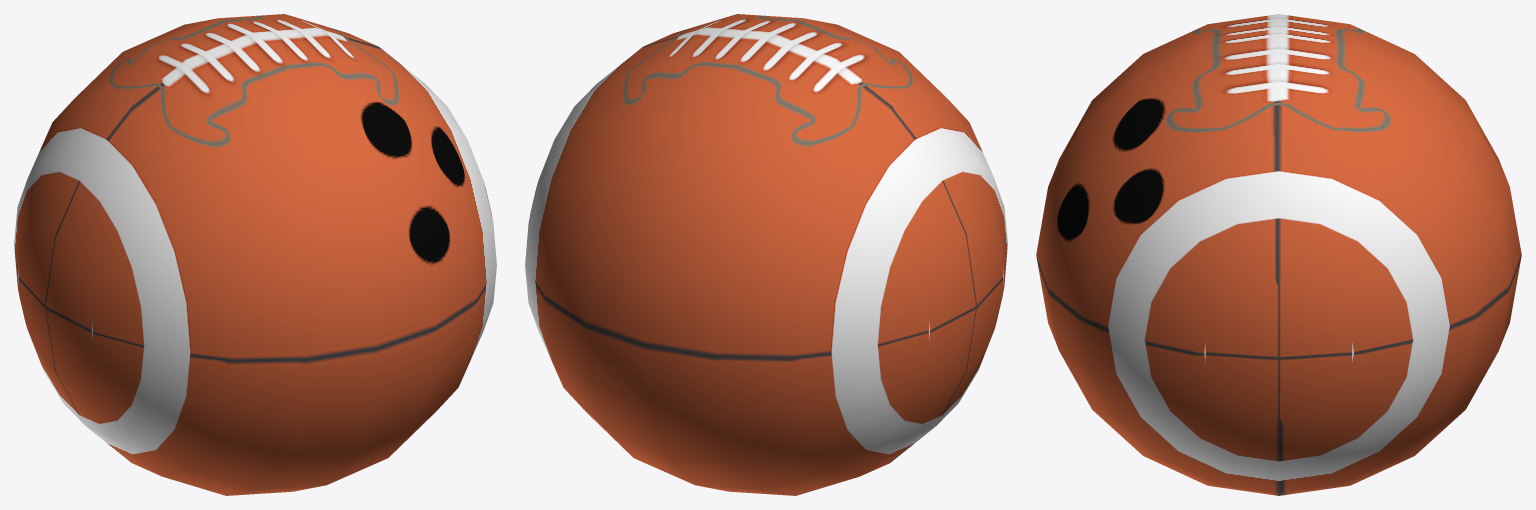
The model's file is qiu_08.FBX.
3 views of the same model, side by side, from view 1: azimuth 30°, elevation 25°; view 2: azimuth 150°, elevation 25°; view 3: azimuth 270°, elevation 25° (orthographic).
Parts seen in each view (by area): view 1: qiu_08; view 2: qiu_08; view 3: qiu_08.
Part boxes in pixels (x1=…): qiu_08: x1=14, y1=14, x2=496, y2=495; qiu_08: x1=525, y1=14, x2=1007, y2=495; qiu_08: x1=1036, y1=14, x2=1521, y2=495.
Bounding box in the file's own units: 592 × 592 × 592.
Materials: 1 (1 with a texture image).
